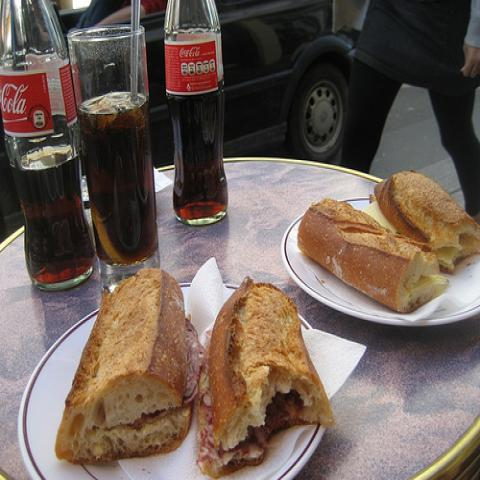car: (213, 3, 351, 156)
